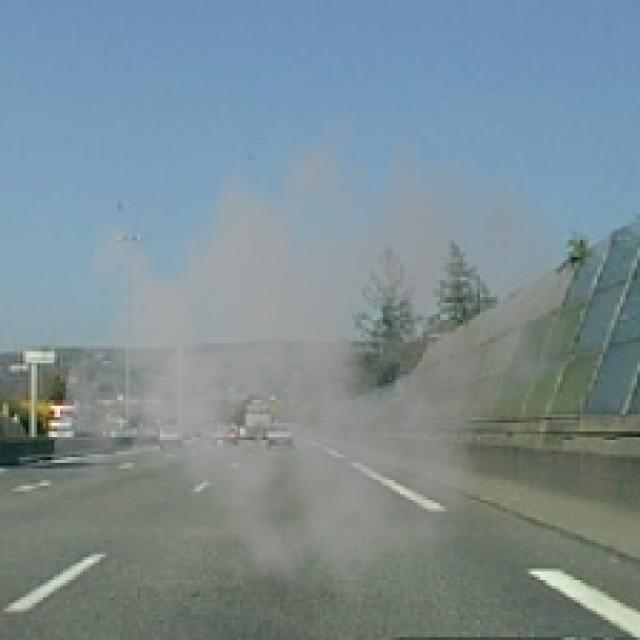smoke: (49, 83, 574, 611)
